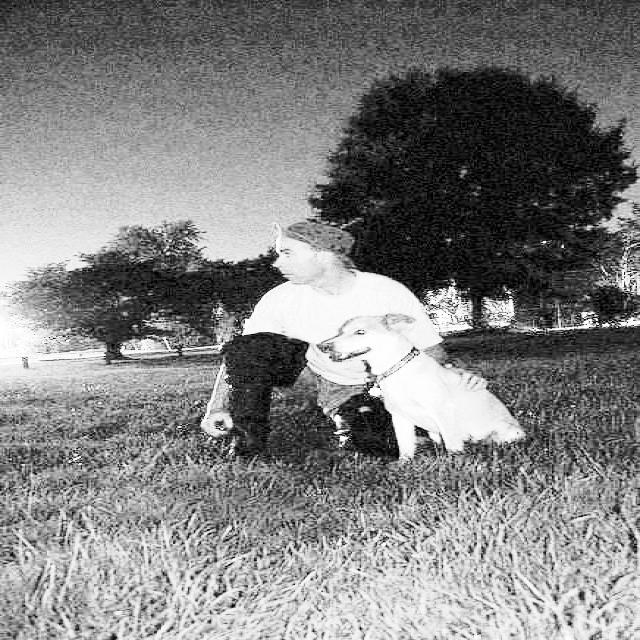Dog: (333, 307, 546, 505)
Person: (162, 199, 406, 486)
